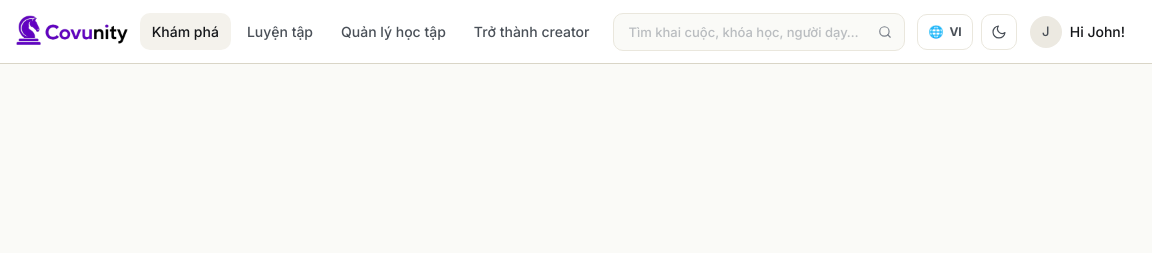
it: TopNav › when logged in › opens dropdown on avatar click and shows logout option
Click the button with aria-label "hồ sơ": (1080,32) [1025,10,1136,52]
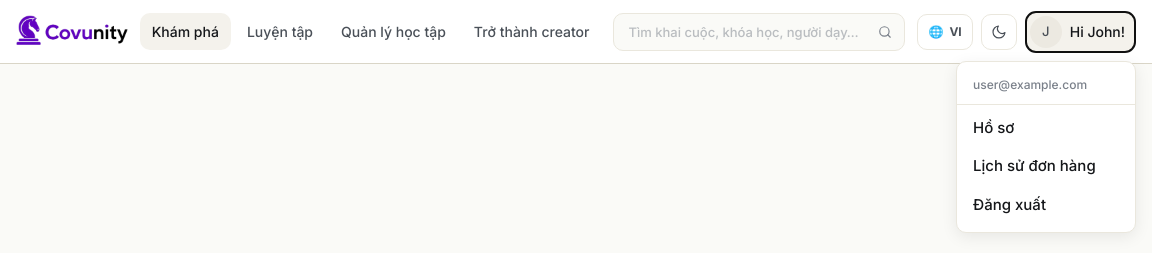
Result: the menu item "Đăng xuất" is shown at [957,186,1135,224]
